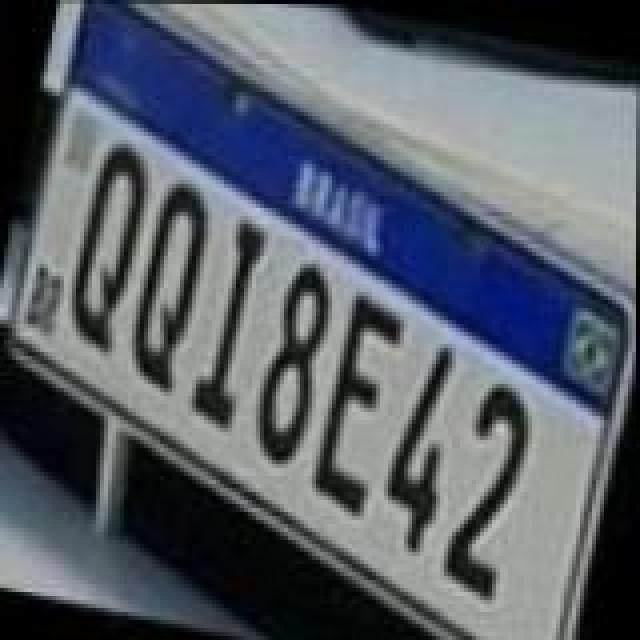2: (434, 376, 542, 608)
4: (370, 328, 474, 552)
8: (238, 254, 342, 474)
E: (304, 284, 412, 520)
I: (180, 204, 276, 432)
Q: (52, 136, 156, 364), (114, 172, 218, 396)
